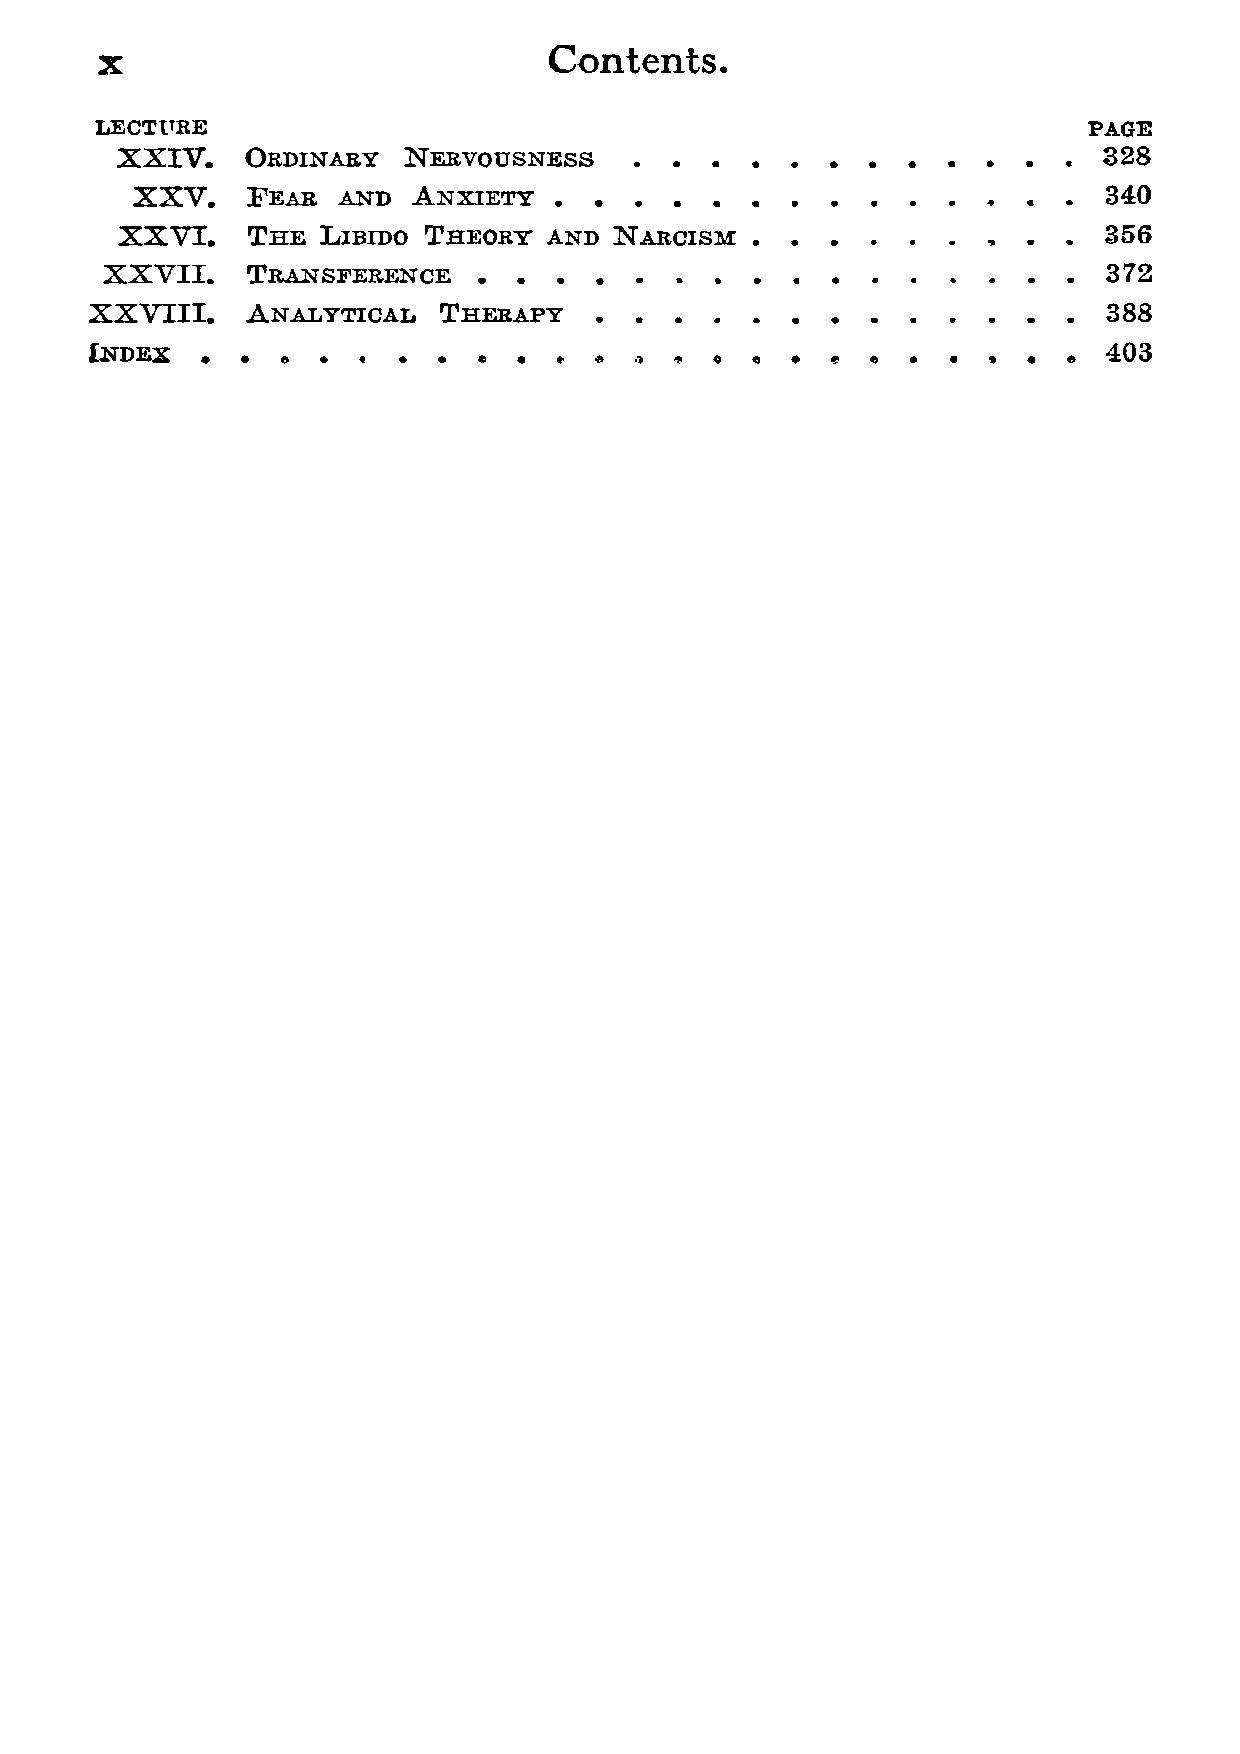TOC_chapter: (114, 212, 752, 254), (109, 134, 605, 172), (85, 293, 573, 326), (125, 176, 541, 209), (98, 254, 454, 285), (85, 336, 174, 368)
TOC_pagenumber: (1100, 293, 1161, 326), (1104, 331, 1157, 366), (1102, 251, 1164, 280), (1102, 137, 1159, 166), (1095, 180, 1159, 205), (1107, 212, 1155, 244)
chapter: (542, 36, 727, 82)
content_pagenumber: (101, 43, 122, 79)
